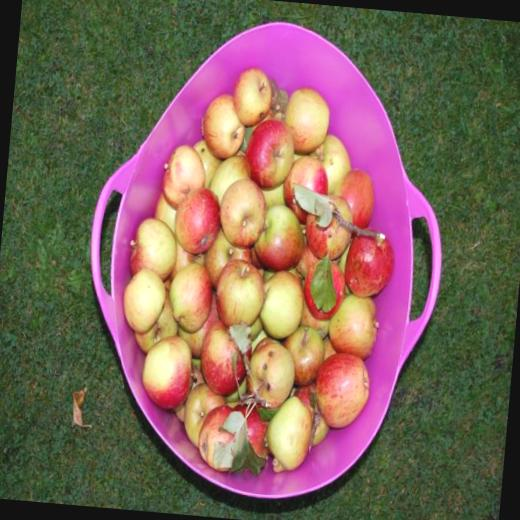Apple: (108, 57, 410, 484)
